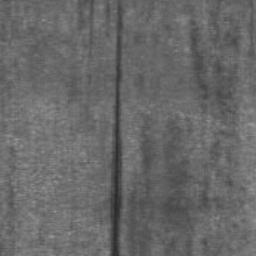Scratches: (111, 1, 129, 256)
